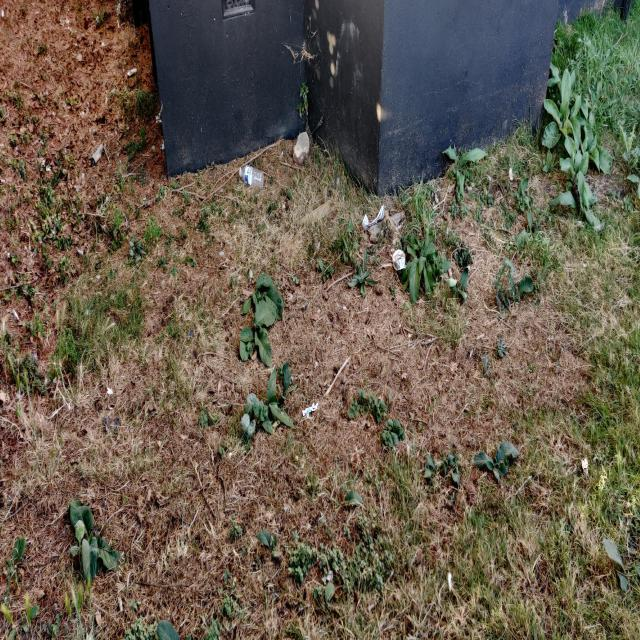litter: (239, 164, 264, 189), (361, 204, 385, 229), (302, 402, 319, 418), (91, 143, 103, 165), (393, 249, 405, 269)
